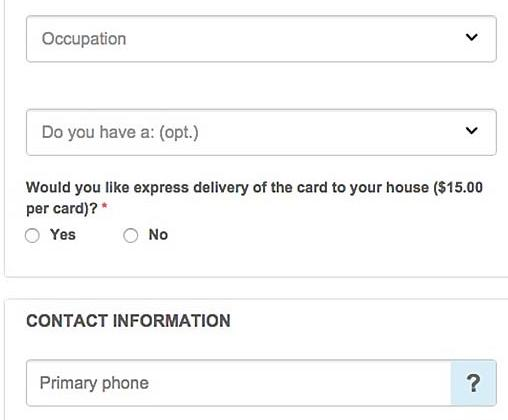field: (24, 358, 498, 407), (24, 108, 499, 156), (26, 15, 499, 63)
radio: (22, 225, 49, 249), (124, 226, 146, 249)
radio_with_label: (16, 221, 74, 252), (120, 221, 170, 252)
